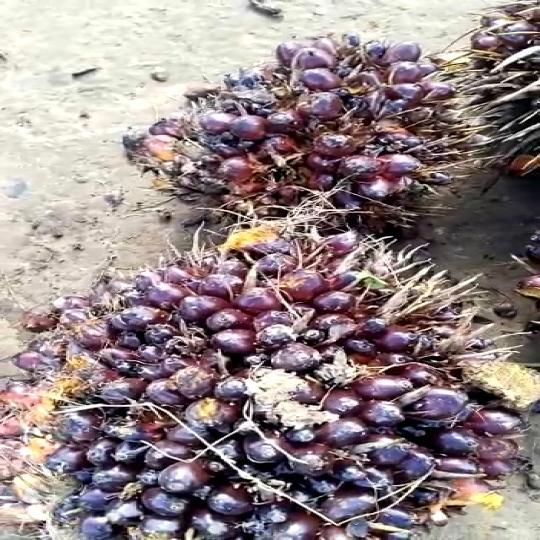masak: (1, 223, 540, 540), (124, 26, 517, 247)
